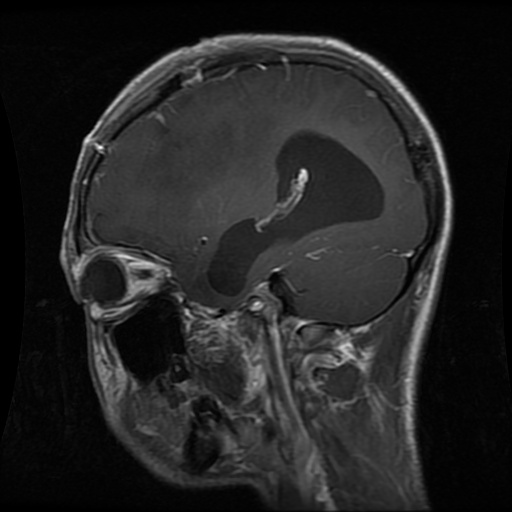glioma: (204, 126, 384, 299)
